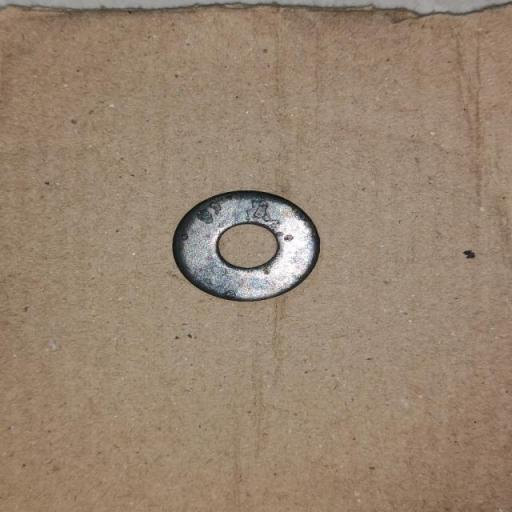Washer: (171, 189, 321, 303)
